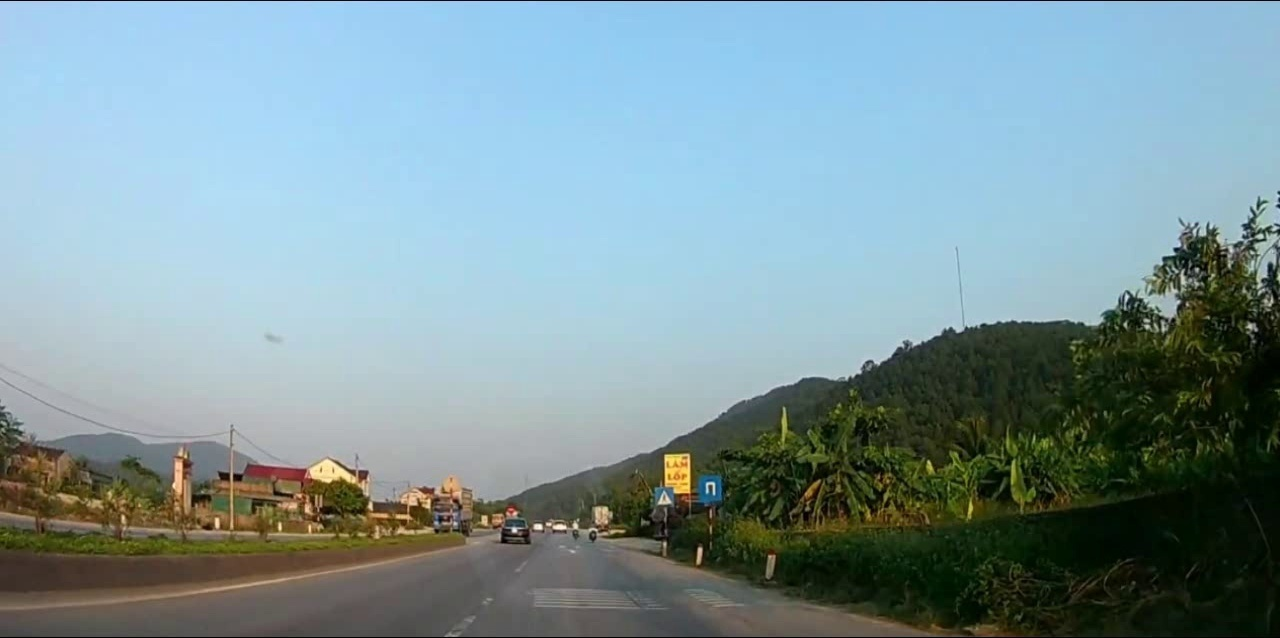Bien khac: (698, 473, 724, 504)
Nguoi di bo: (654, 484, 677, 507)
